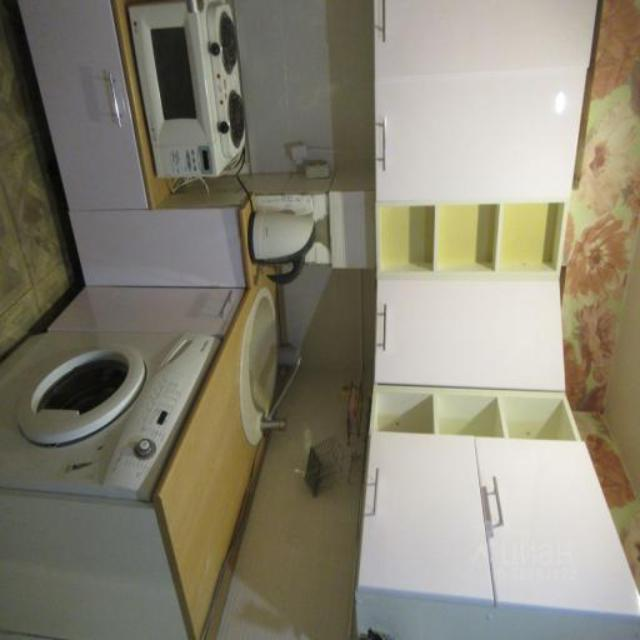Microwave: (126, 2, 218, 182)
Washing-Machine: (2, 338, 225, 636)
